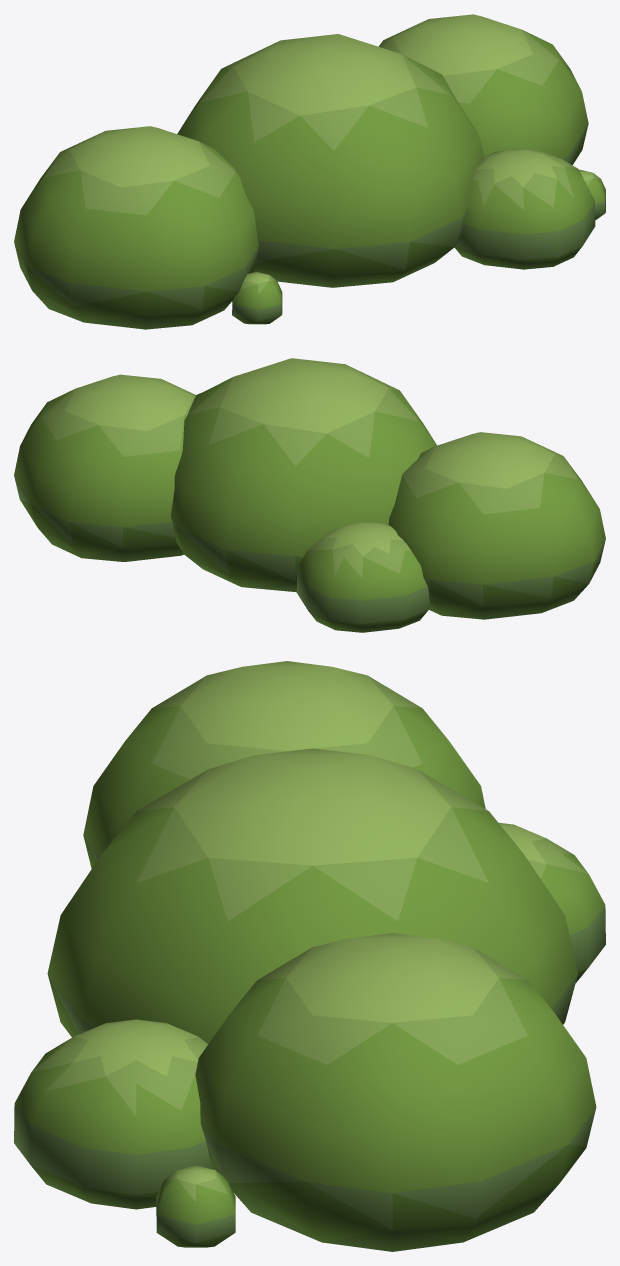
Rendered from itch_kaykit_forest_bush_1_g_color1.glb.
The picture shows the model from 3 angles, top to bottom: view 1: azimuth 30°, elevation 25°; view 2: azimuth 150°, elevation 25°; view 3: azimuth 270°, elevation 25°; orthographic projection. The views are drawn at different scales.
Parts seen in each view (by area): view 1: Bush_1_G_Color1; view 2: Bush_1_G_Color1; view 3: Bush_1_G_Color1.
Boxes of the visible parts, x1,y1,x2,y2 form: Bush_1_G_Color1: [14, 14, 605, 329]; Bush_1_G_Color1: [14, 358, 605, 632]; Bush_1_G_Color1: [14, 661, 605, 1251].
Bounding box in the file's own units: 0.96 × 0.3073 × 0.5406.
